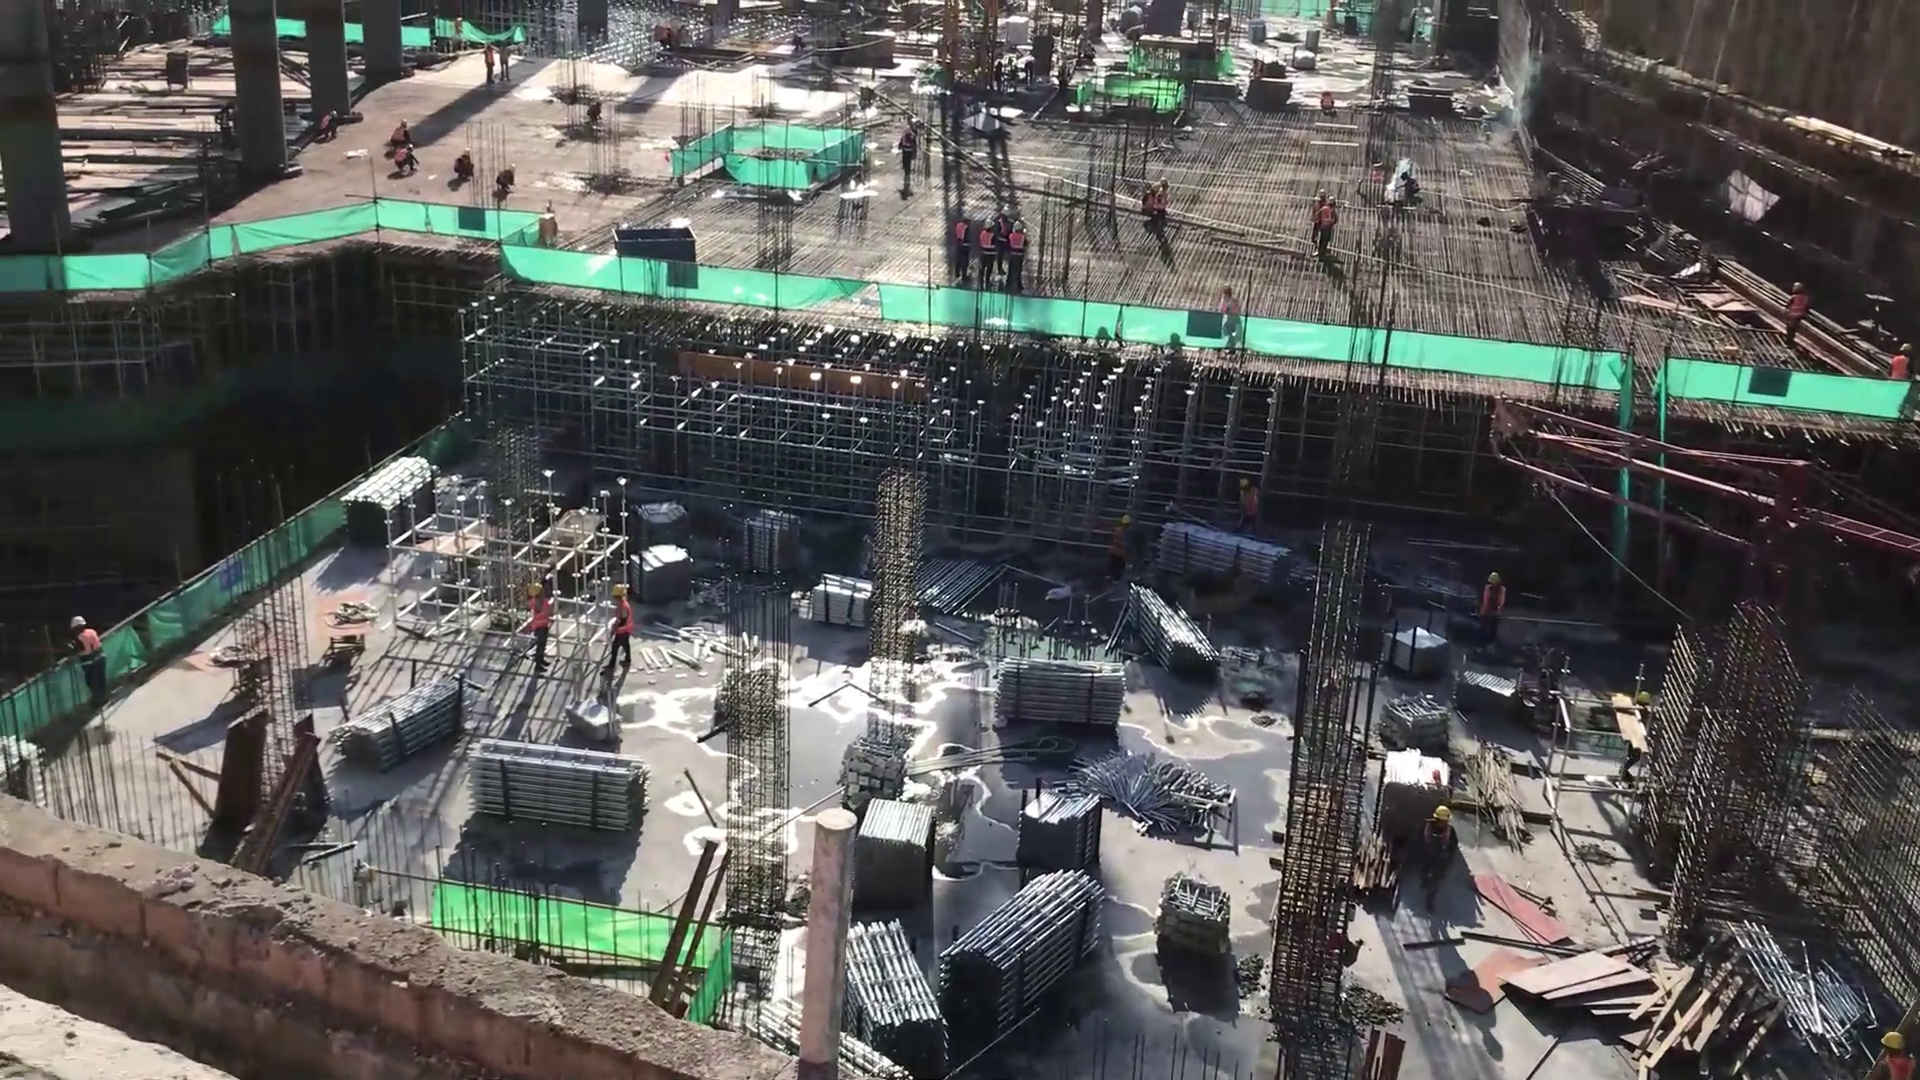helmet: (1879, 1029, 1909, 1054), (64, 612, 90, 634), (1430, 804, 1456, 825), (522, 580, 546, 602), (1486, 569, 1504, 592), (609, 584, 630, 601), (1151, 173, 1171, 190), (1237, 474, 1251, 493), (1790, 280, 1807, 296), (1314, 186, 1330, 201), (1899, 341, 1914, 358), (1325, 193, 1340, 209), (1010, 219, 1024, 234), (1120, 512, 1133, 528), (998, 205, 1012, 219), (981, 217, 996, 230), (963, 209, 973, 222)
person: (59, 612, 118, 710), (1418, 803, 1462, 915), (598, 582, 640, 679), (523, 578, 558, 671), (1100, 510, 1140, 583), (1862, 1029, 1917, 1080), (1477, 566, 1510, 651), (1232, 472, 1272, 541), (1779, 277, 1812, 351), (1309, 194, 1347, 258), (1141, 173, 1174, 237), (949, 206, 977, 279), (484, 159, 523, 207), (1003, 219, 1029, 289), (1886, 336, 1916, 385), (448, 144, 480, 190), (977, 215, 998, 284), (312, 103, 342, 147), (389, 142, 423, 178), (386, 115, 413, 150), (1308, 182, 1332, 216), (997, 203, 1013, 246)
vest: (1421, 828, 1458, 877), (72, 627, 106, 672), (1877, 1054, 1915, 1080), (610, 600, 635, 640), (1479, 591, 1508, 624), (1236, 491, 1262, 520), (528, 603, 552, 633), (978, 230, 999, 265), (1108, 527, 1128, 564), (1314, 207, 1340, 233), (1785, 294, 1808, 324), (953, 223, 975, 255), (1888, 355, 1911, 384), (1009, 234, 1027, 265), (1147, 191, 1169, 217)
